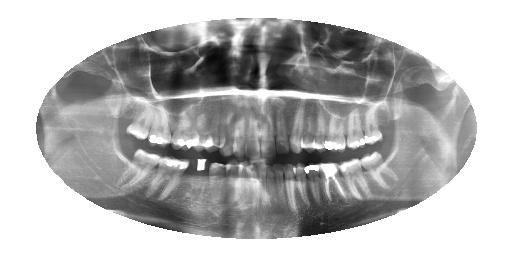u10healthy: (236, 157, 258, 223), (229, 100, 249, 161)
u11healthy: (220, 157, 245, 221), (215, 94, 237, 159)
u12healthy: (201, 88, 227, 158), (202, 159, 229, 222)
u13healthy: (168, 93, 202, 157)
u13loss: (182, 153, 212, 230)
u14healthy: (144, 152, 190, 212), (148, 90, 172, 152)
u15healthy: (114, 145, 163, 200), (124, 92, 153, 147)
u2healthy: (358, 152, 401, 192), (359, 98, 386, 147)
u3healthy: (339, 156, 371, 204), (344, 107, 370, 152)
u4healthy: (317, 155, 349, 212), (320, 104, 349, 156)
u5healthy: (298, 98, 330, 154), (303, 160, 327, 212)
u6healthy: (287, 96, 310, 157), (290, 158, 311, 215)
u7healthy: (281, 161, 301, 221), (274, 98, 290, 160)
u8healthy: (257, 96, 279, 161), (270, 160, 287, 217)
u9healthy: (241, 94, 263, 162), (253, 160, 276, 222)
